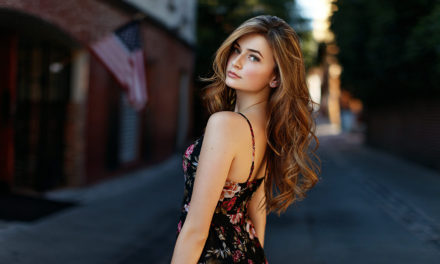bare: (223, 60, 259, 89)
